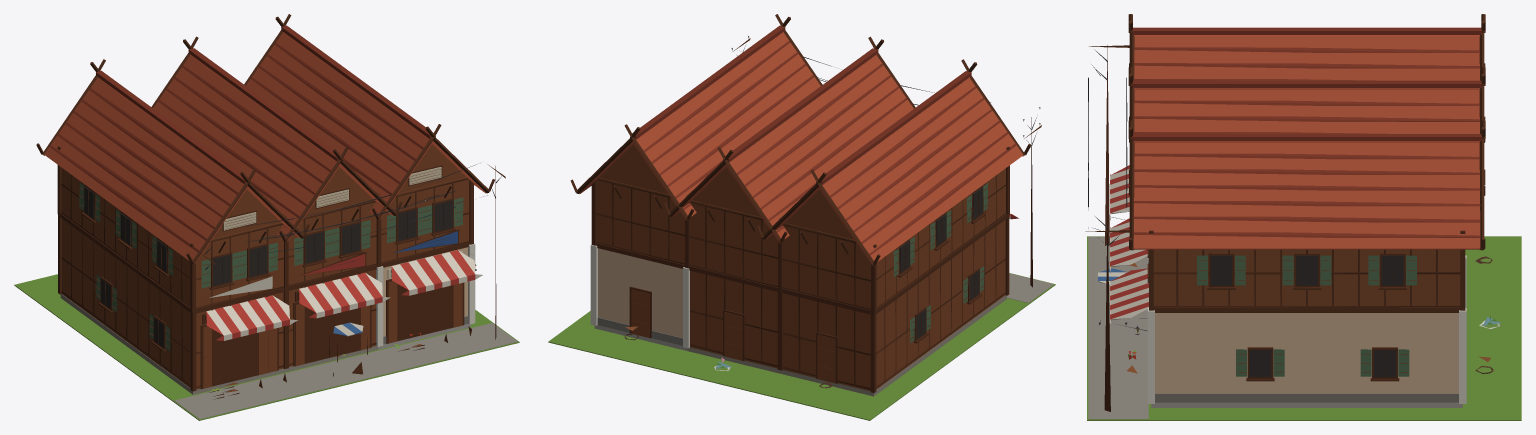
Rendered from shop_3.glb.
3 views of the same model, side by side, from view 1: azimuth 30°, elevation 25°; view 2: azimuth 150°, elevation 25°; view 3: azimuth 270°, elevation 25° (orthographic). The views are drawn at different scales.
Parts seen in each view (by area): view 1: body, windows; view 2: body, windows; view 3: body, windows.
Boxes of the visible parts, bbox=[...] form: body: bbox=[14, 14, 519, 420]; windows: bbox=[84, 186, 475, 347]; body: bbox=[548, 14, 1055, 420]; windows: bbox=[899, 187, 982, 338]; body: bbox=[1085, 14, 1521, 420]; windows: bbox=[1136, 255, 1403, 377].
Bounding box in the file's own units: 15.9 × 10.46 × 16.
